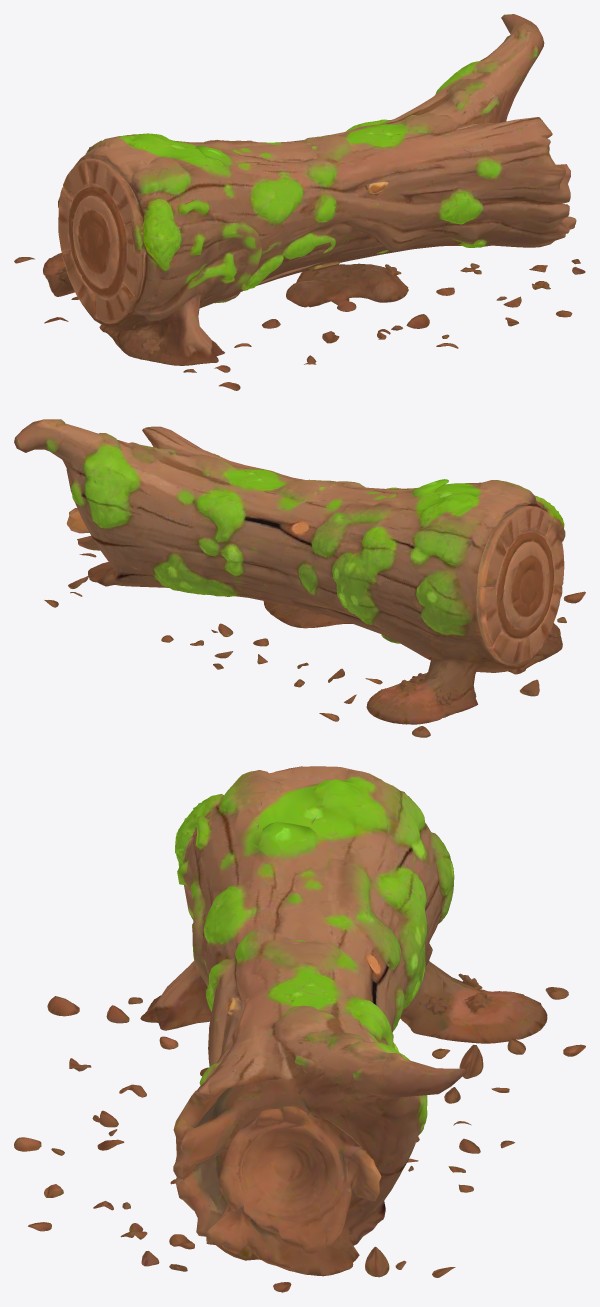
File: fallen_log.glb
3 views of the same model, one above another, from view 1: azimuth 30°, elevation 25°; view 2: azimuth 150°, elevation 25°; view 3: azimuth 270°, elevation 25° (orthographic). The views are drawn at different scales.
Size of the model in its own units: 1.9 by 0.6161 by 1.36.
Materials: 1 (1 with a texture image).
